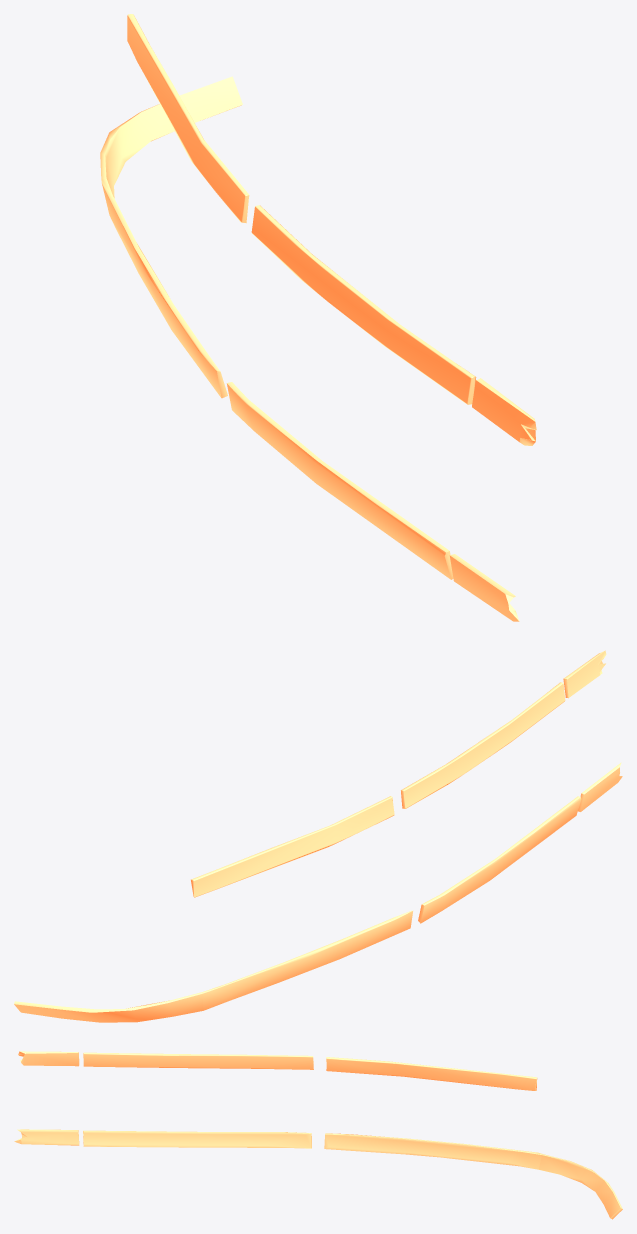
Rendered from SM_Trim_BraceFront01.fbx.
The picture shows the model from 3 angles, top to bottom: view 1: azimuth 30°, elevation 25°; view 2: azimuth 150°, elevation 25°; view 3: azimuth 270°, elevation 25°; orthographic projection. The views are drawn at different scales.
Visible parts, largest first — view 1: SM_Trim_BraceFront01_LOD0; view 2: SM_Trim_BraceFront01_LOD0; view 3: SM_Trim_BraceFront01_LOD0.
Part boxes in pixels (x1,y1,x2,y2): SM_Trim_BraceFront01_LOD0: [100, 14, 536, 621]; SM_Trim_BraceFront01_LOD0: [14, 650, 622, 1022]; SM_Trim_BraceFront01_LOD0: [14, 1051, 622, 1219].
Size of the model in its own units: 609 by 1972 by 363.
